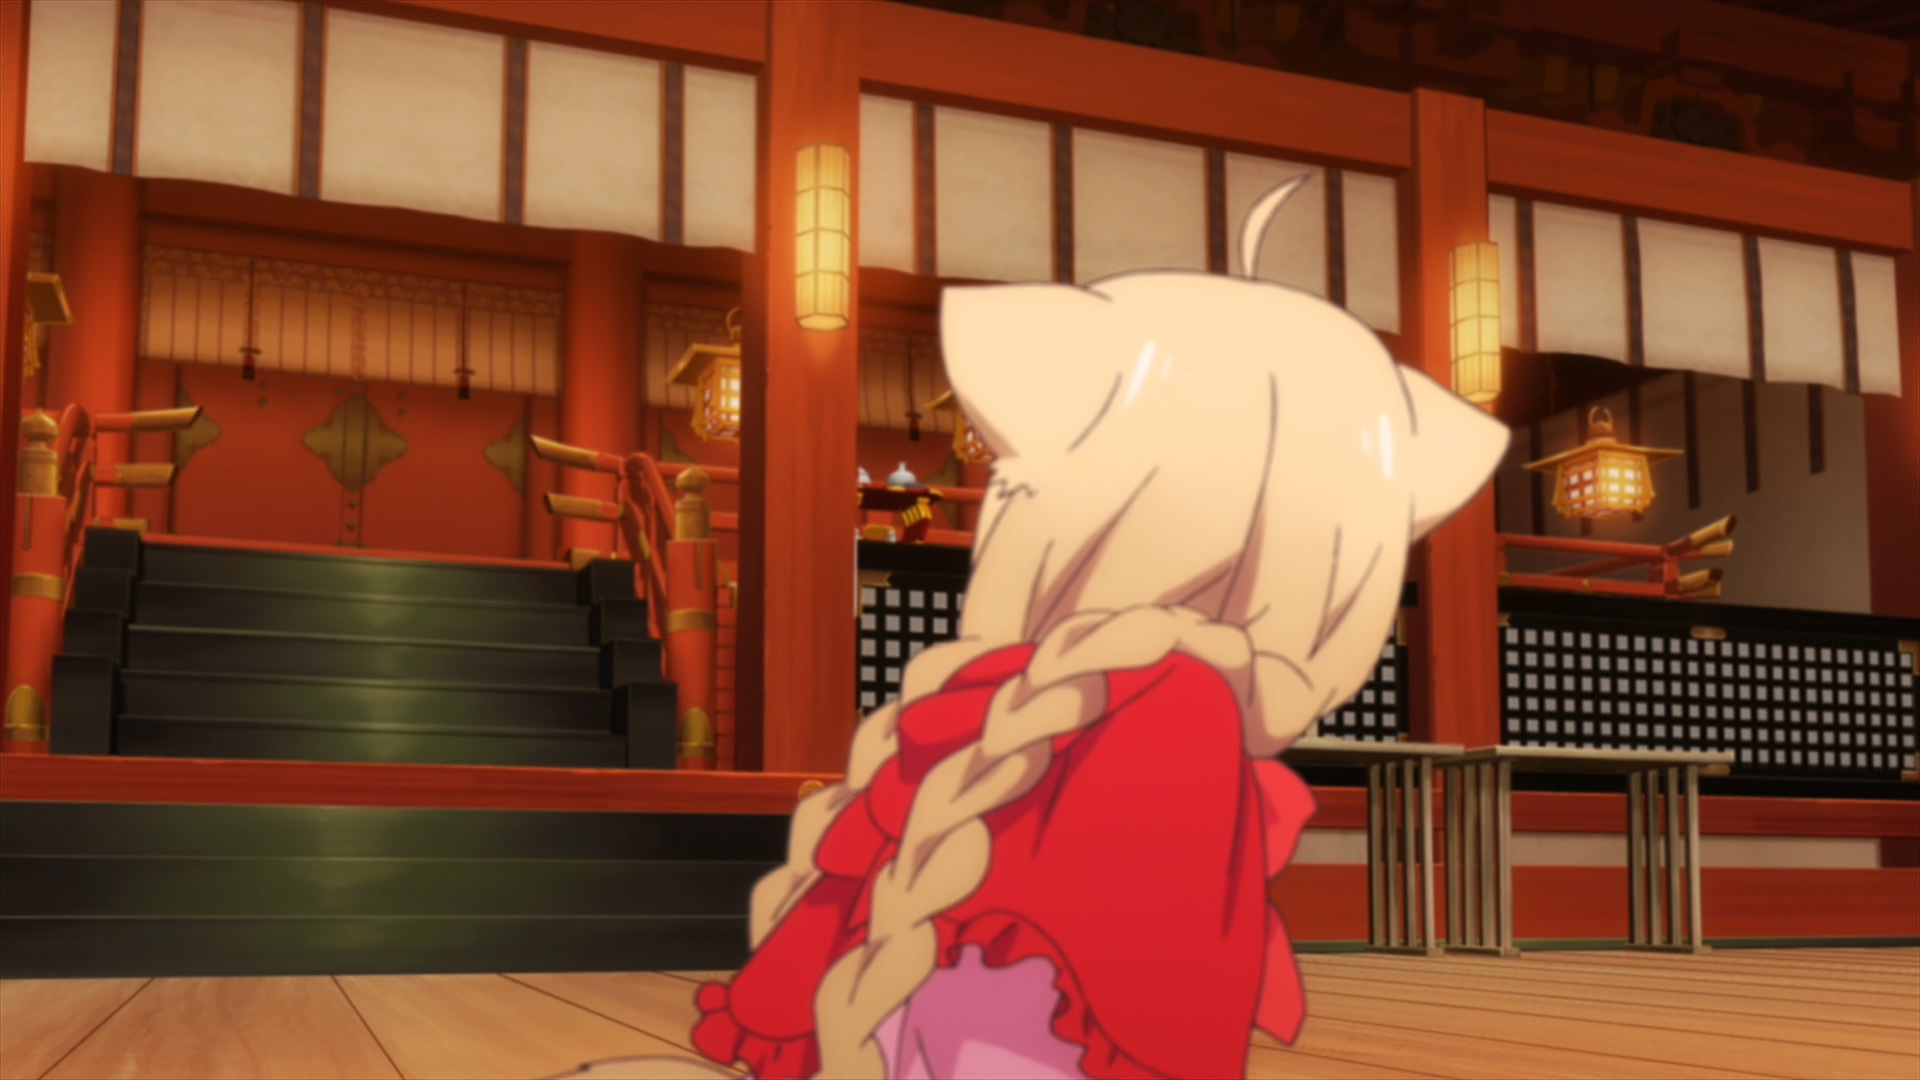柚: (690, 175, 1511, 1080)
